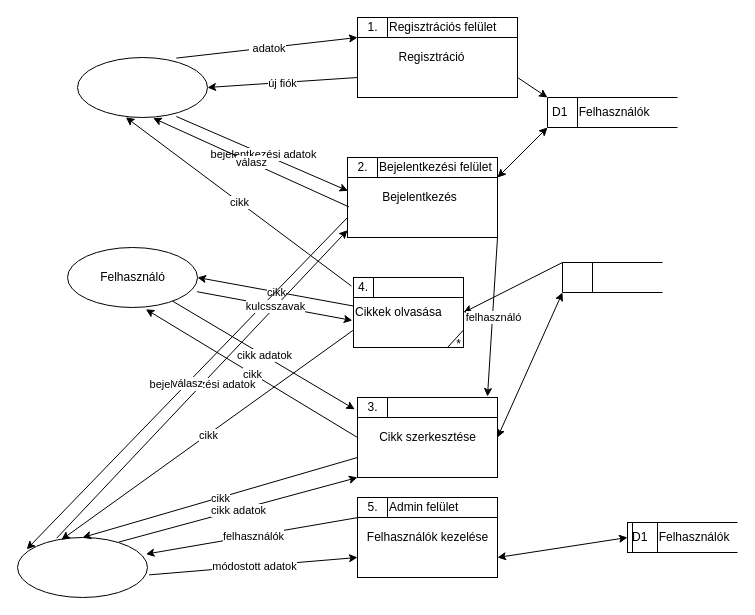
Image size: 755x615. Some labels were removed from this diagram. The shapes that lost their labels are listed below. From the top down, each one's centre as x and y in pixels, then its label:
At point (142, 87): "Látogató".
At point (418, 287): "Weboldal".
At point (612, 277): "D2 Cikkek".
At point (442, 407): "Módosítás fül".
At point (82, 567): "Admin".
